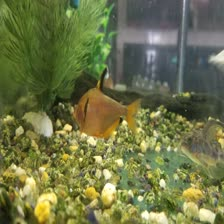Kiros: (177, 120, 223, 169)
Transparente: (62, 74, 143, 142)
